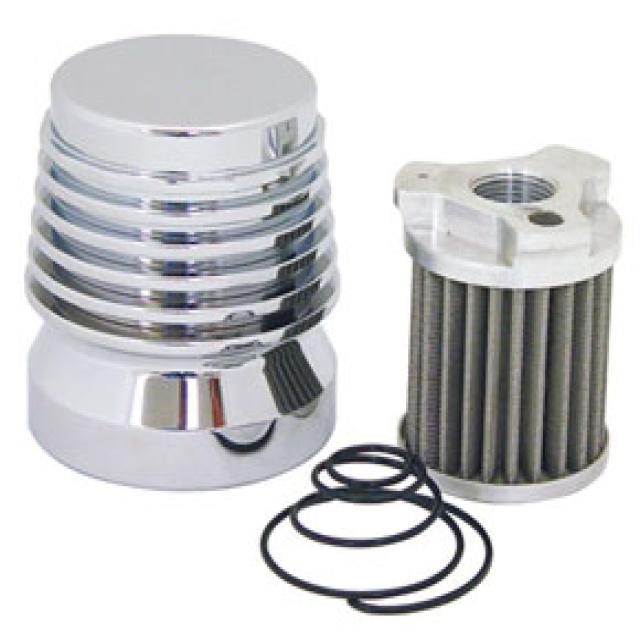oil_filter: (396, 140, 624, 500)
